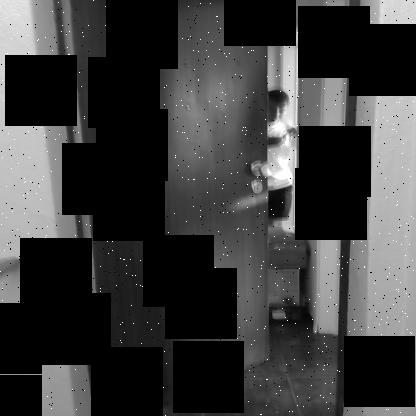Porte: (47, 0, 365, 415)
